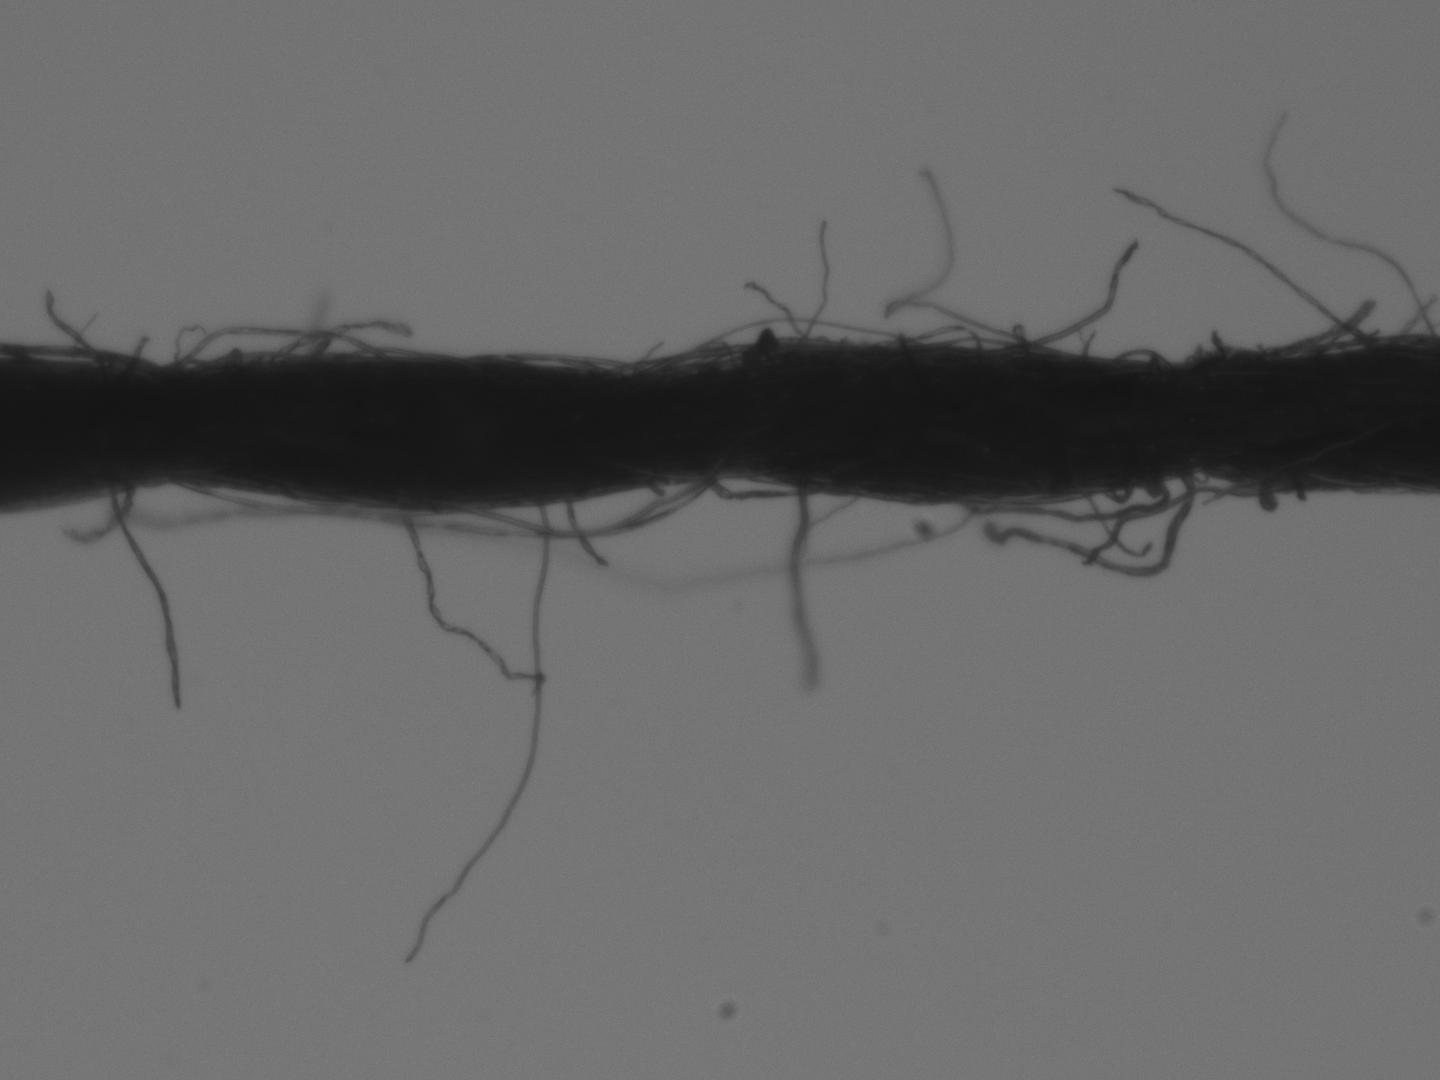loop_fiber: (464, 479, 692, 538), (675, 312, 913, 360), (960, 475, 1164, 521), (480, 347, 633, 376), (276, 329, 382, 362), (702, 471, 810, 500), (10, 344, 144, 364), (890, 322, 984, 351), (1111, 344, 1166, 366), (162, 354, 205, 371), (1096, 484, 1132, 503)
protruding_fiber: (396, 507, 553, 971), (1120, 183, 1365, 345), (985, 473, 1195, 580), (1081, 487, 1301, 565), (108, 483, 177, 712), (1005, 243, 1137, 352), (787, 488, 807, 691)
